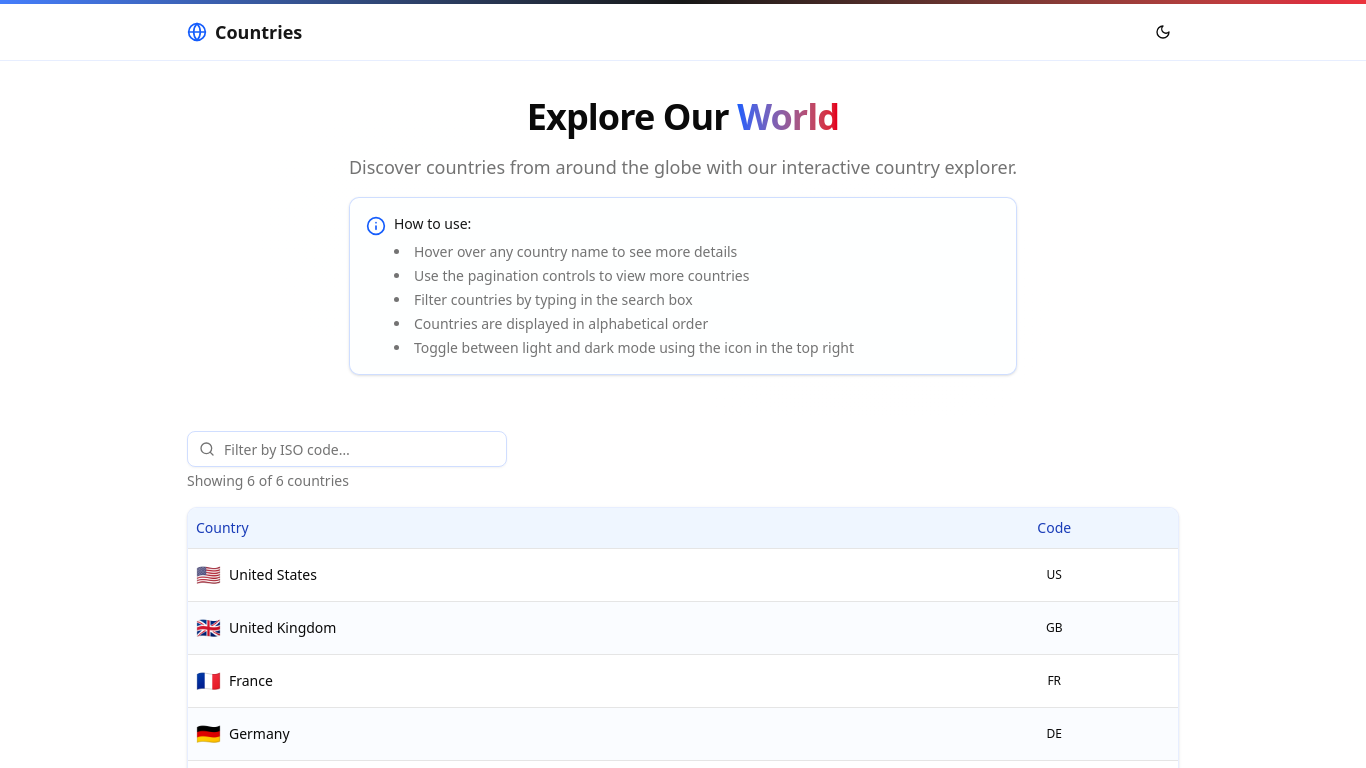
Test: Country Filtering › filter shows correct count of filtered results
The width and height of the screenshot is (1366, 768).
expect the text "United States" is shown: met, box [229,564,317,584]
// Test with no results
Type "ZZ" into the field with placeholder "Filter by ISO code…" at {"x": 347, "y": 449}, box [187,431,507,467]
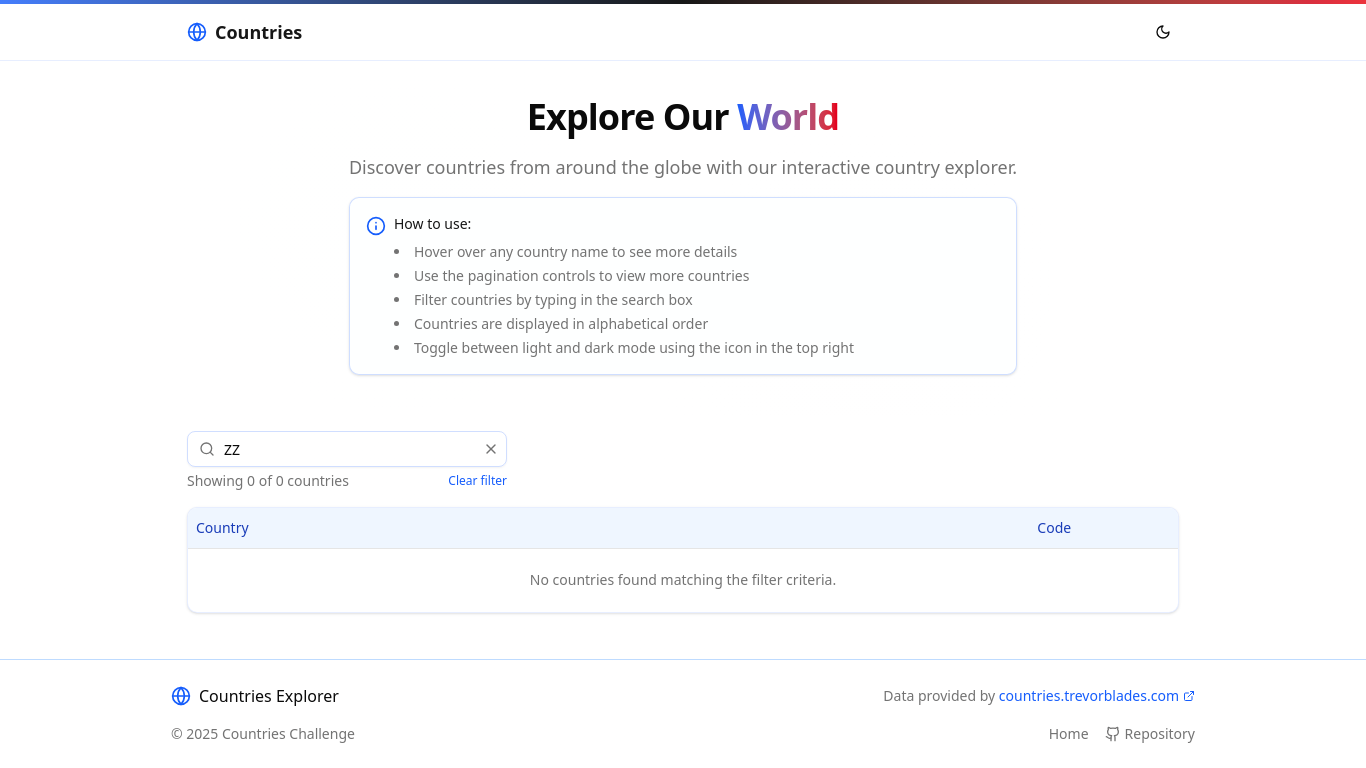
expect the text "No countries found matching the filter criteria." is shown: met, box [188,548,1178,612]
expect the text "Showing 0 of 0 countries" is shown: met, box [187,471,349,491]
// Test with a single match to simplify test
Replace the text in the field with placeholder "Filter by ISO code…" with "US" at {"x": 347, "y": 449}, box [187,431,507,467]
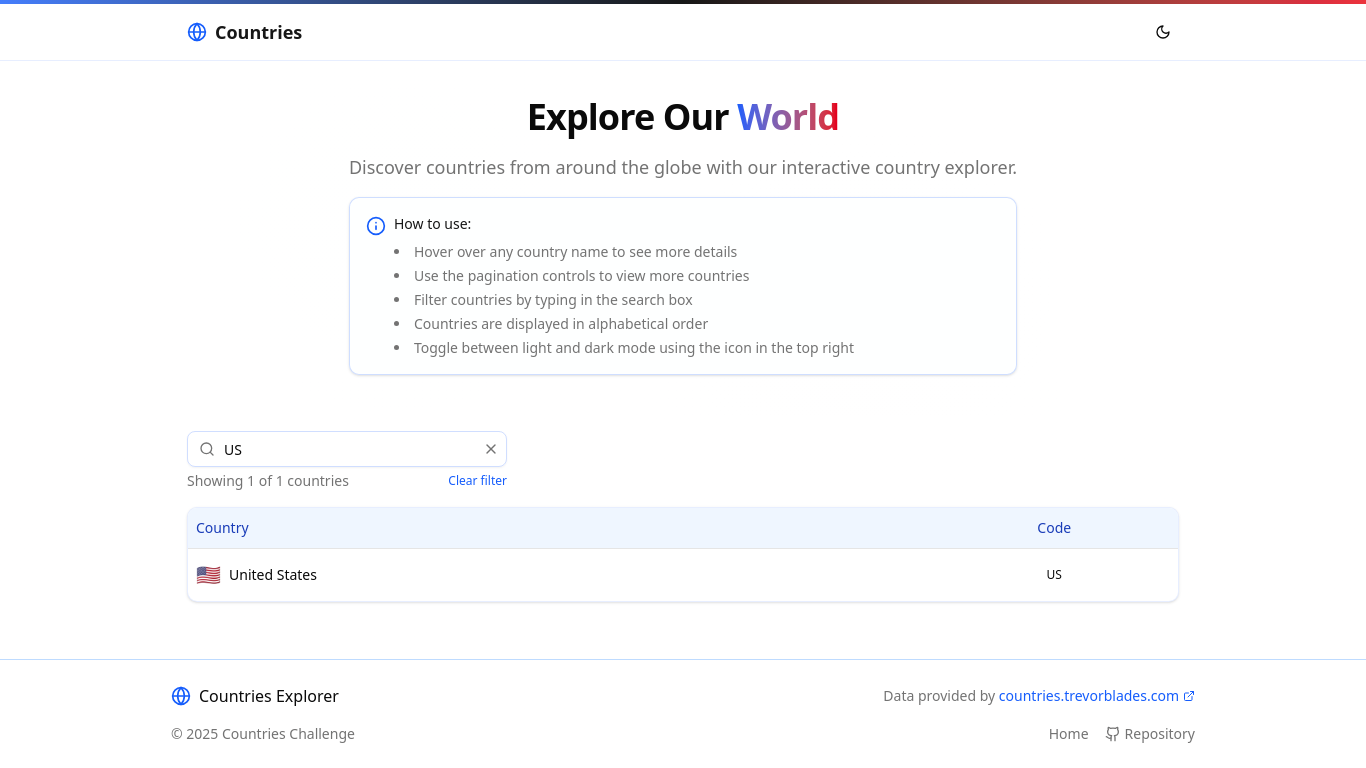
expect the text "United States" is shown: met, box [229,564,317,584]
expect the text "Showing 1 of 1 countries" is shown: met, box [187,471,349,491]
